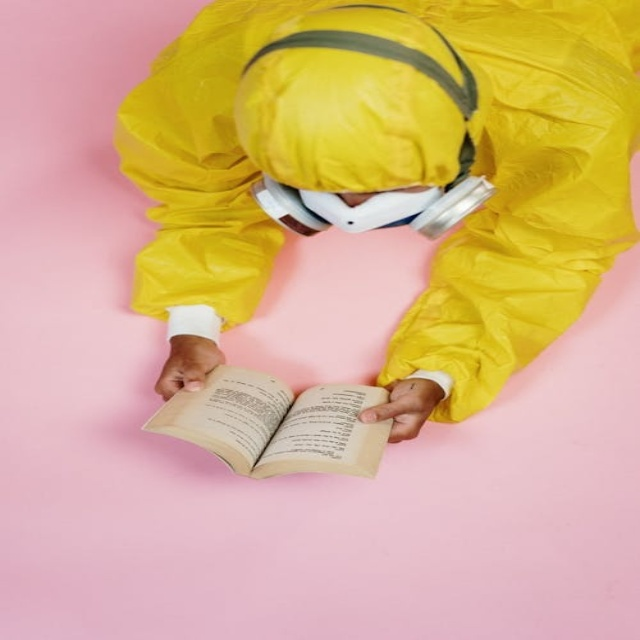Mascara: (241, 166, 503, 253)
Sin_guantes: (358, 373, 449, 445), (155, 332, 225, 403)
